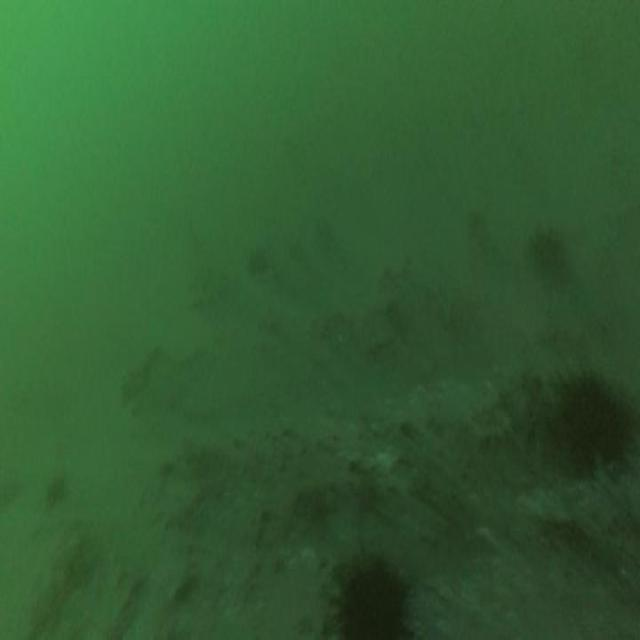echinus: (321, 528, 419, 640), (550, 359, 638, 479)
